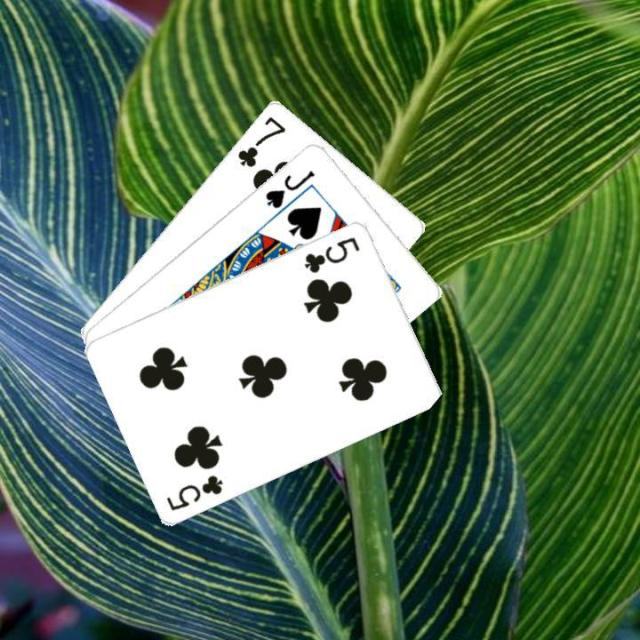5C: (300, 232, 362, 275), (162, 470, 225, 512)
7C: (233, 112, 288, 169)
JS: (262, 165, 316, 211)
